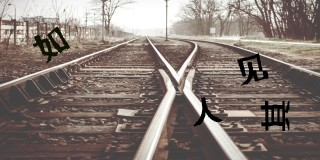人: (193, 97, 223, 126)
其: (261, 100, 292, 131)
如: (32, 27, 71, 62)
见: (237, 53, 269, 86)
